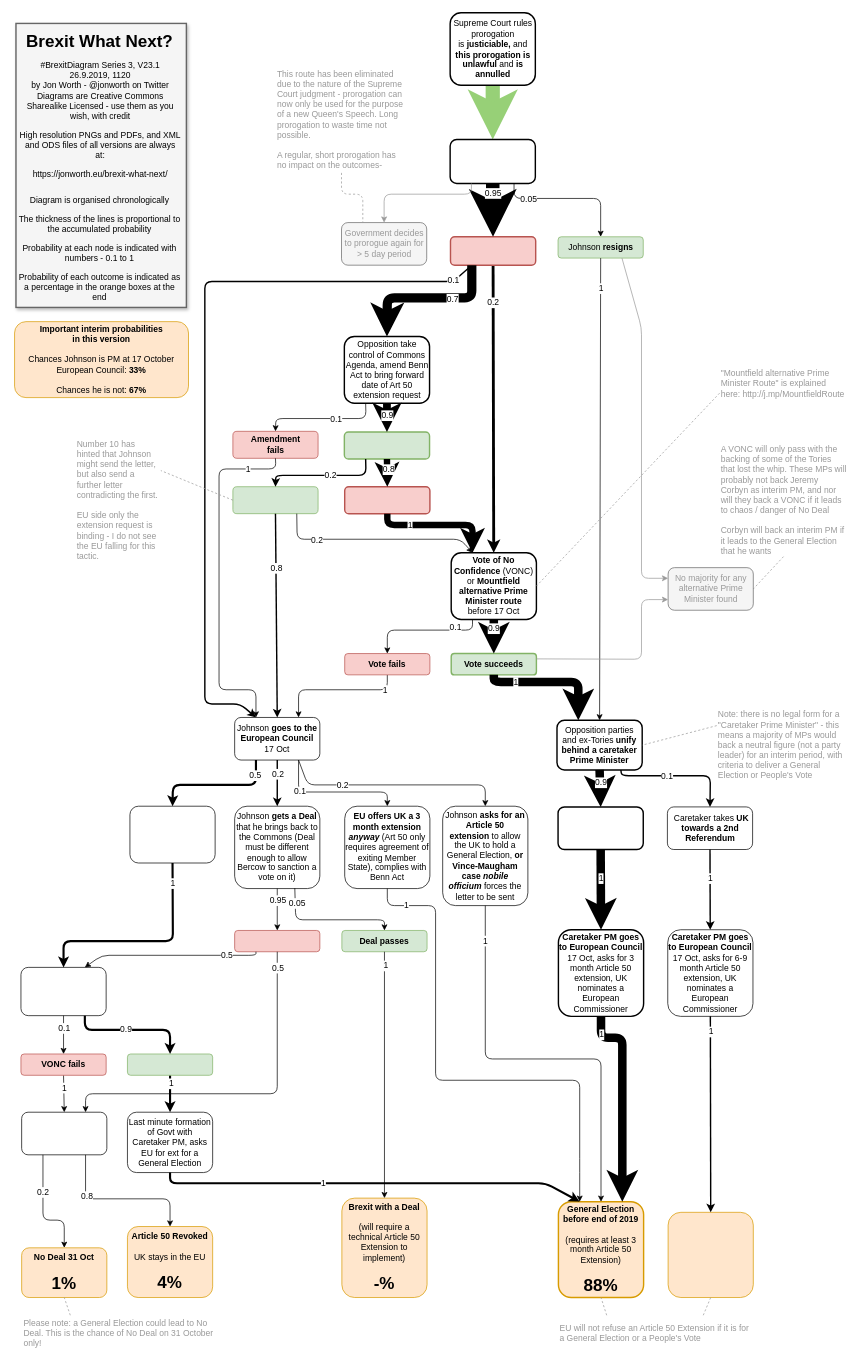
Image size: 859x1363. Some labels were removed from this diagram. Each missing label, with the centre of its shape:
"2nd Referendum sometime 2020 (requires 6-9 month Article 50 Extension) 7%" goes at [710,1255].
"Amendment succeeds" goes at [386,445].
"Caretaker takes UK towards a General Election" goes at [600,828].
"Commons sits again 24 September onwards" goes at [492,161].
"Deal fails" goes at [277,941].
"Johnson complies and sends letter" goes at [275,500].
"Johnson doesn't comply" goes at [387,500].
"Johnson refuses everything, and does not ask for extension as Commons requested" goes at [172,834].
"Johnson refuses to resign" goes at [492,251].
"Last minute No Deal versus Revoke showdown" goes at [64,1133].
"VONC succeeds" goes at [170,1064].
"Vote of No Confidence (VONC) or Mountfield Route around 21 Oct" goes at [63,991].
